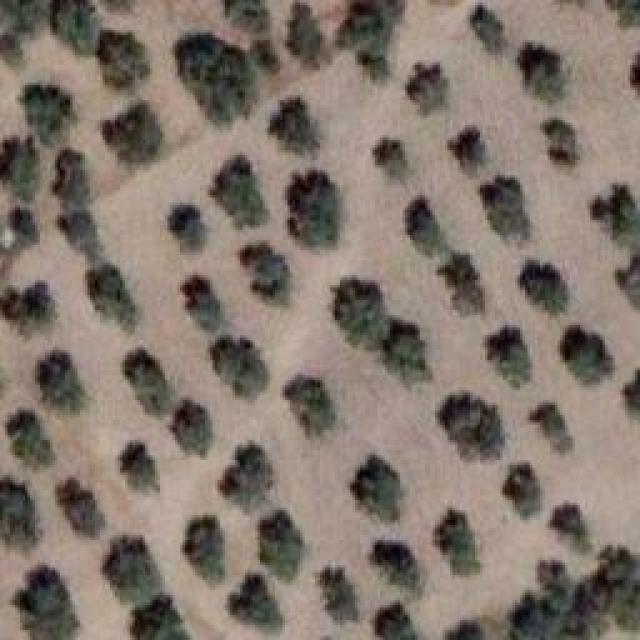Tree: (175, 33, 250, 124), (338, 0, 407, 80), (15, 565, 80, 640), (210, 155, 269, 227), (440, 394, 506, 458), (288, 170, 341, 248), (218, 442, 273, 512), (103, 540, 163, 603), (333, 278, 386, 349), (103, 103, 164, 163), (210, 338, 269, 400), (350, 455, 400, 522), (20, 85, 74, 147), (283, 375, 337, 437), (123, 348, 172, 416), (383, 318, 432, 385), (480, 176, 531, 240), (590, 182, 640, 246), (260, 510, 304, 582), (90, 265, 137, 332), (600, 547, 640, 625), (560, 325, 613, 383), (125, 595, 193, 640), (435, 510, 481, 576), (557, 575, 603, 640), (37, 350, 85, 412), (437, 253, 485, 315), (230, 575, 284, 630), (0, 283, 55, 334), (270, 98, 320, 154), (488, 325, 533, 387), (57, 478, 105, 536), (518, 42, 564, 102), (242, 243, 287, 304), (103, 30, 151, 87), (0, 478, 38, 550), (7, 410, 55, 466), (520, 260, 569, 313), (183, 518, 222, 584), (0, 138, 39, 202), (508, 592, 561, 639), (285, 2, 323, 67), (405, 193, 445, 252), (57, 208, 104, 258), (170, 400, 211, 457), (52, 150, 90, 210), (53, 0, 96, 53), (320, 567, 360, 622), (530, 402, 574, 452), (373, 543, 418, 590), (405, 63, 445, 115), (505, 463, 544, 516), (183, 275, 219, 331), (120, 444, 159, 494), (447, 128, 485, 175), (167, 205, 205, 251), (535, 555, 575, 598), (373, 602, 417, 640), (470, 5, 504, 53), (225, 0, 271, 33), (8, 205, 40, 249), (550, 504, 588, 538), (373, 138, 403, 181), (545, 123, 573, 165), (250, 40, 280, 73), (622, 370, 640, 413), (447, 622, 485, 640)
